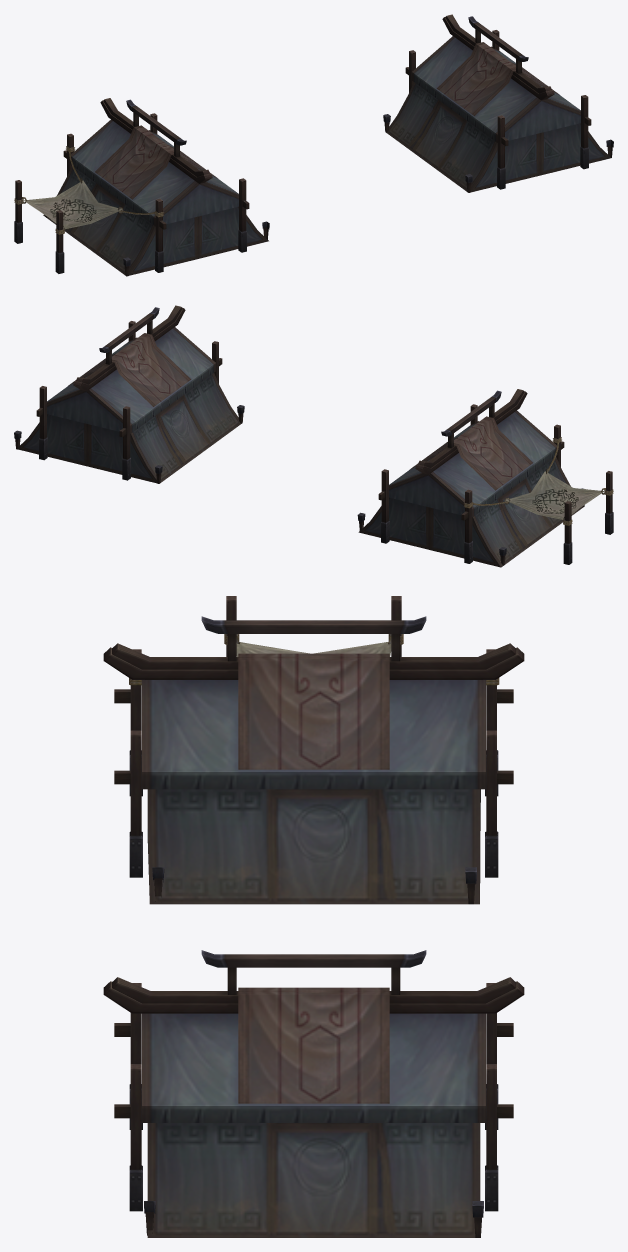
File: s7_pve_fight_account_.FBX
3 views of the same model, one above another, from view 1: azimuth 30°, elevation 25°; view 2: azimuth 150°, elevation 25°; view 3: azimuth 270°, elevation 25° (orthographic). The views are drawn at different scales.
Parts seen in each view (by area): view 1: s7_pve_fight_account, s7_pve_fight_account_a; view 2: s7_pve_fight_account, s7_pve_fight_account_a; view 3: s7_pve_fight_account, s7_pve_fight_account_a.
Boxes of the visible parts, x1,y1,x2,y2 form: s7_pve_fight_account: (14,98,269,276); s7_pve_fight_account_a: (383,14,613,192); s7_pve_fight_account: (357,389,613,567); s7_pve_fight_account_a: (14,305,244,483); s7_pve_fight_account: (103,596,524,904); s7_pve_fight_account_a: (103,950,524,1237).
Bounding box in the file's own units: 115 × 22.2 × 39.25.
